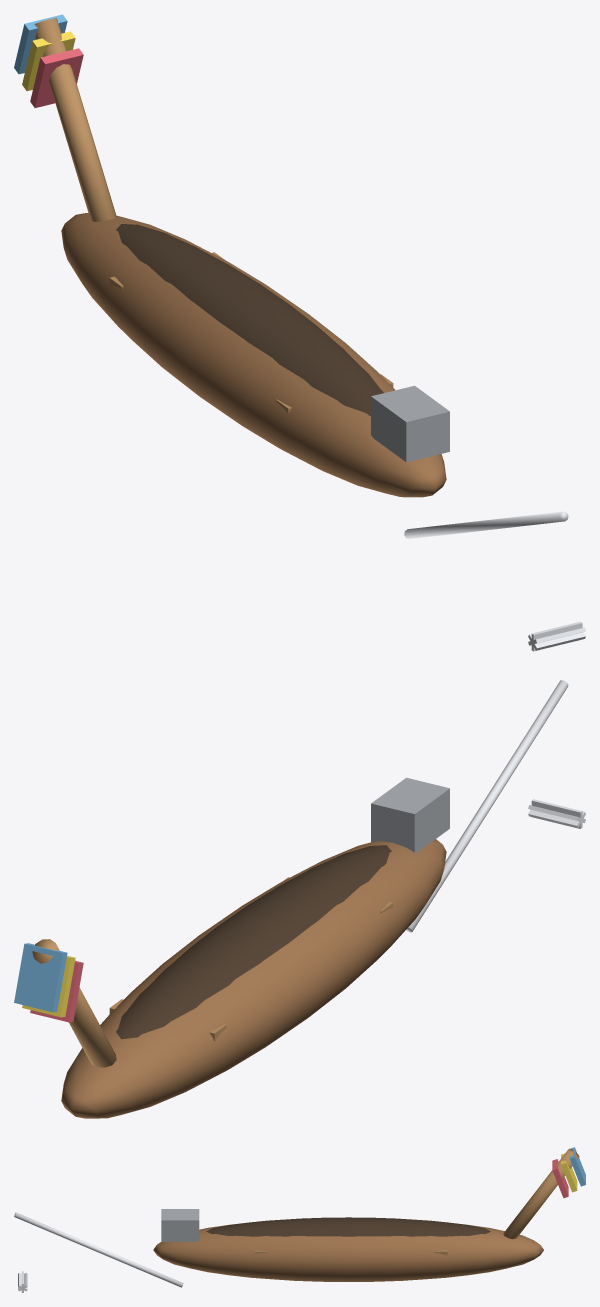
Rendered from boat.glb.
3 views of the same model, one above another, from view 1: azimuth 30°, elevation 25°; view 2: azimuth 150°, elevation 25°; view 3: azimuth 270°, elevation 25° (orthographic). The views are drawn at different scales.
Visible parts, largest first — view 1: boat_hull, boat_inner, boat_prow, boat_engine, boat_shaft, boat_ribbon0, boat_ribbon1, boat_ribbon2; view 2: boat_hull, boat_inner, boat_engine, boat_shaft, boat_ribbon2, boat_prow, boat_ribbon0, boat_ribbon1; view 3: boat_hull, boat_inner, boat_prow, boat_engine, boat_shaft, boat_ribbon2, boat_ribbon0, boat_ribbon1.
Boxes of the visible parts, left/top/right/bottom form: boat_hull: left=61, top=213, right=446, bottom=497; boat_inner: left=116, top=224, right=383, bottom=416; boat_prow: left=34, top=18, right=116, bottom=221; boat_engine: left=371, top=385, right=449, bottom=462; boat_shaft: left=404, top=511, right=568, bottom=538; boat_ribbon0: left=30, top=48, right=83, bottom=107; boat_ribbon1: left=22, top=31, right=75, bottom=91; boat_ribbon2: left=14, top=14, right=67, bottom=74; boat_hull: left=61, top=839, right=446, bottom=1118; boat_inner: left=116, top=845, right=391, bottom=1039; boat_engine: left=371, top=777, right=449, bottom=852; boat_shaft: left=406, top=680, right=568, bottom=932; boat_ribbon2: left=14, top=943, right=67, bottom=1012; boat_prow: left=32, top=939, right=116, bottom=1067; boat_ribbon0: left=30, top=960, right=83, bottom=1022; boat_ribbon1: left=22, top=955, right=75, bottom=1017; boat_hull: left=153, top=1223, right=543, bottom=1281; boat_inner: left=206, top=1217, right=490, bottom=1236; boat_prow: left=503, top=1148, right=579, bottom=1239; boat_engine: left=161, top=1209, right=199, bottom=1241; boat_shaft: left=14, top=1212, right=183, bottom=1287; boat_ribbon2: left=569, top=1147, right=585, bottom=1186; boat_ribbon0: left=552, top=1159, right=568, bottom=1198; boat_ribbon1: left=561, top=1153, right=577, bottom=1192.
Bounding box in the file's own units: 1.5 × 2.8 × 10.53.
